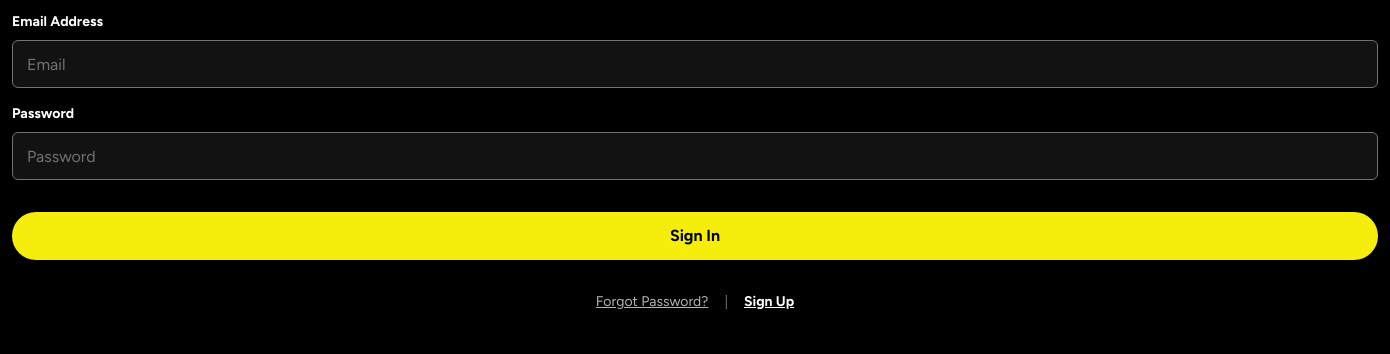
SignInForm › shows field errors returned by the server action
Type "nope" into the field labelled "Email Address" at [695, 64], box [12,40,1378,88]
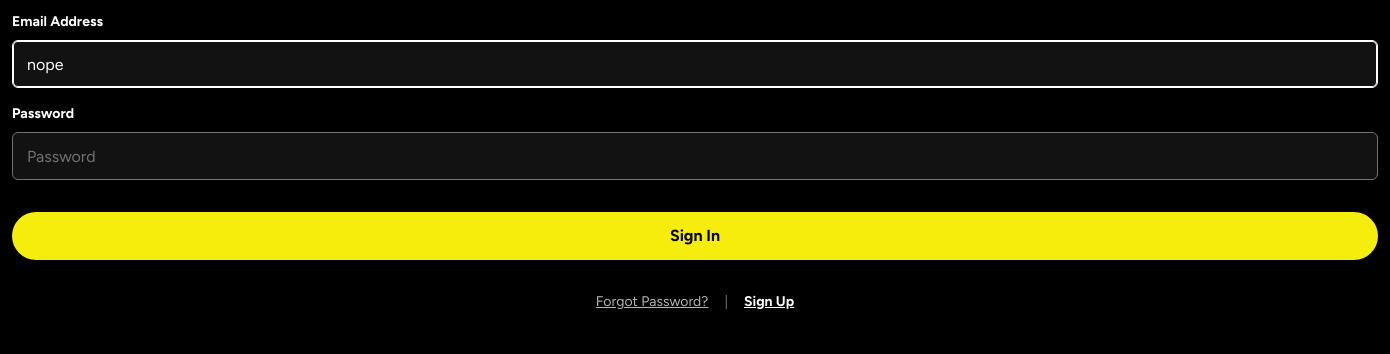
Click the button "Sign In" at [695, 236], box [12,212,1378,260]
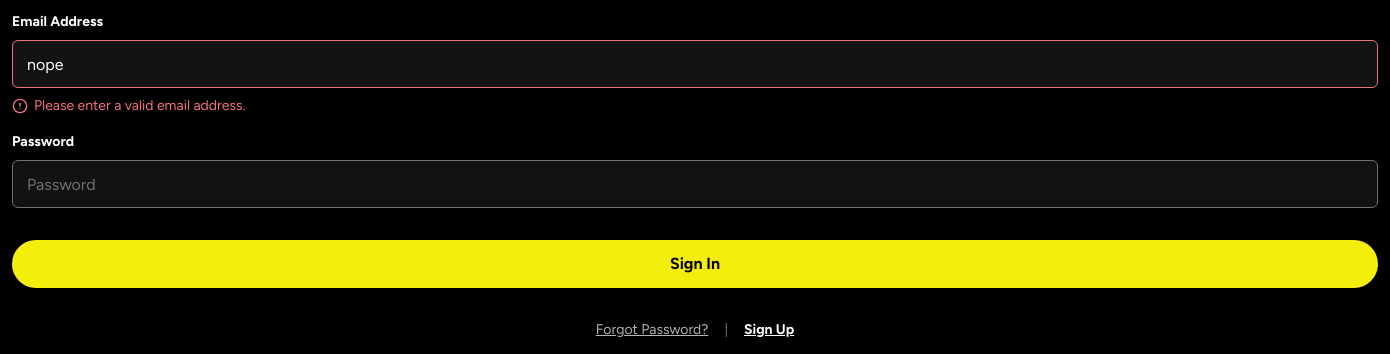
Check: the text "Please enter a valid email address." is shown, box [12,97,245,114]
